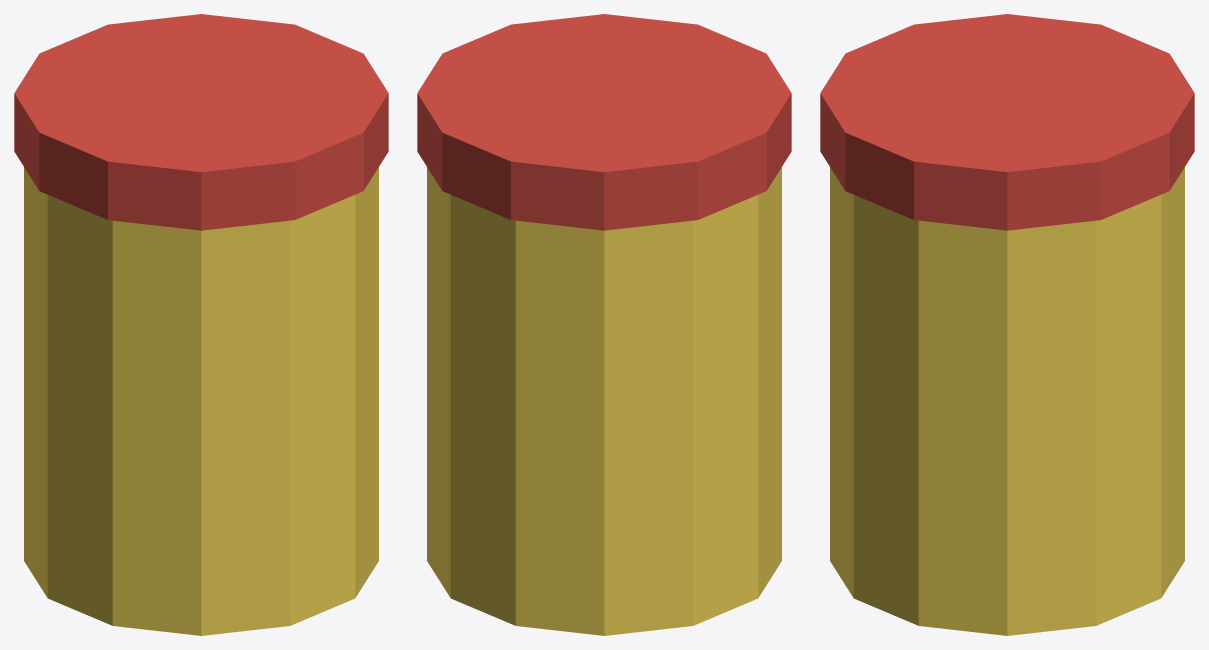
Rendered from sm_product_honey_jar.glb.
The picture shows the model from 3 angles, left to right: view 1: azimuth 30°, elevation 25°; view 2: azimuth 150°, elevation 25°; view 3: azimuth 270°, elevation 25°; orthographic projection.
Parts seen in each view (by area): view 1: honey_jar_0, honey_jar_1; view 2: honey_jar_0, honey_jar_1; view 3: honey_jar_0, honey_jar_1.
Part boxes in pixels (x1,y1,x2,y2): honey_jar_0: [24, 167, 378, 635]; honey_jar_1: [14, 14, 388, 230]; honey_jar_0: [427, 167, 781, 635]; honey_jar_1: [417, 14, 791, 230]; honey_jar_0: [830, 167, 1184, 635]; honey_jar_1: [820, 14, 1194, 230].
Size of what is drawn, in the model's own units: 0.116 by 0.16 by 0.116.
